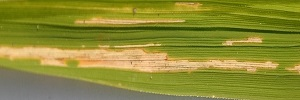RiceBacterialBlight: (5, 35, 300, 73), (72, 1, 201, 27)
